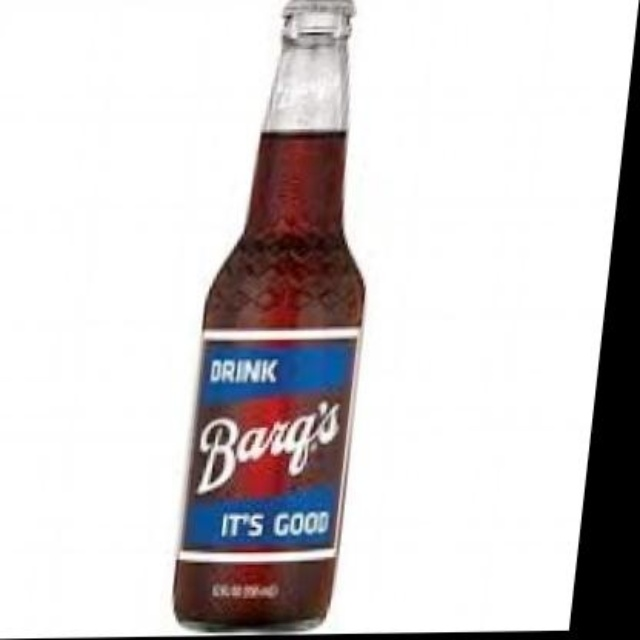trash: (174, 0, 363, 628)
